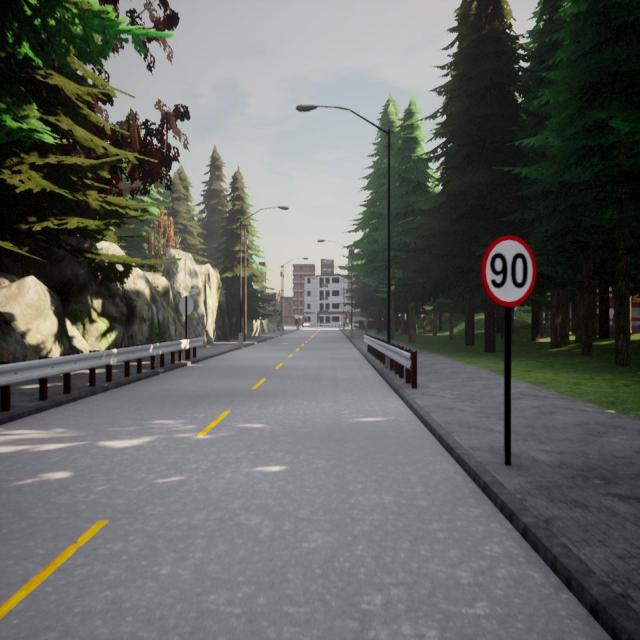Pedestrian: (363, 316, 368, 334)
Traffic_Signs: (480, 236, 537, 306), (178, 296, 194, 315), (299, 314, 303, 320)
